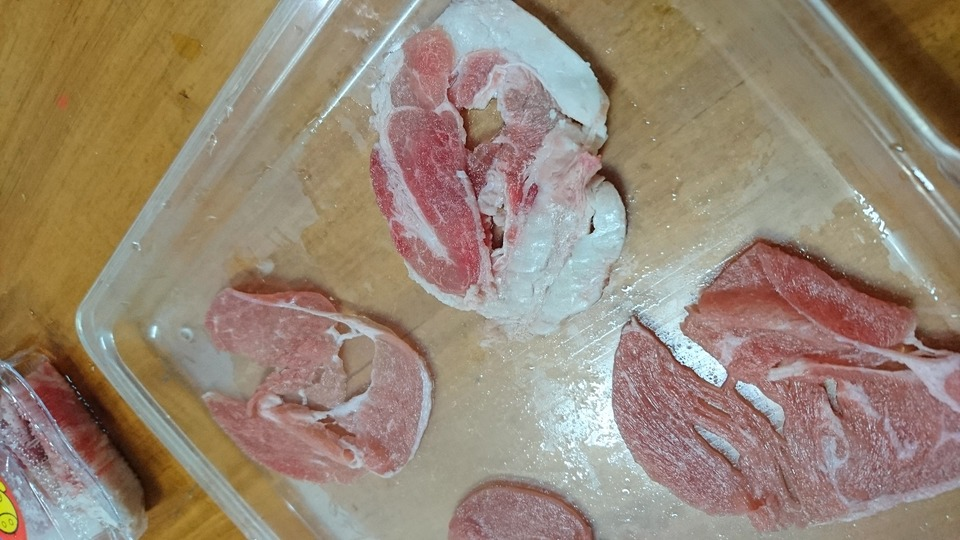restructured meat: (354, 9, 648, 328), (615, 244, 953, 521), (190, 272, 438, 468), (439, 468, 599, 540)
